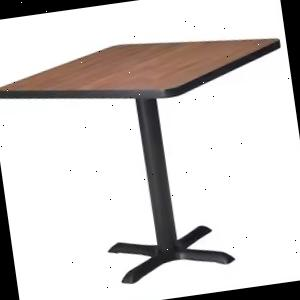Clean Table: (0, 0, 299, 179)
